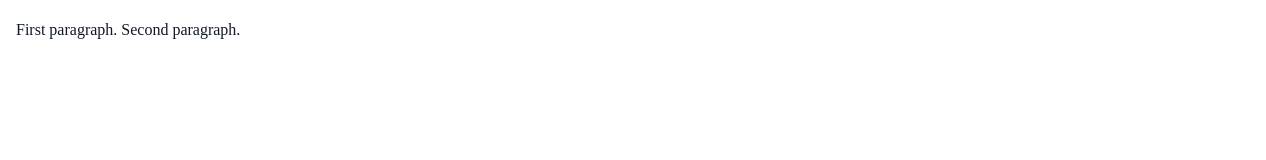
Test: MdKitEditor › opens optional document search from the find shortcut
Check: the field labelled "First paragraph. Second paragraph." is shown, box [16,21,240,38]
Step 1. Press f
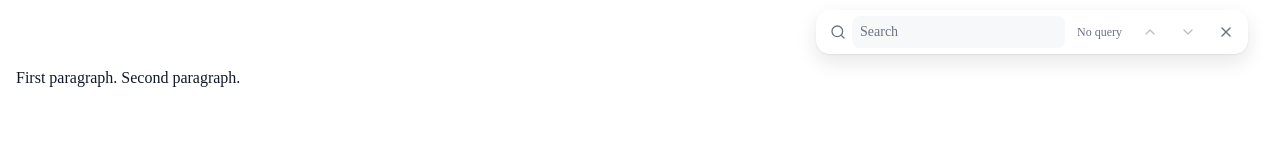
Step 2. Type "paragraph" into the search field named "Search document" → [958, 32], box [852,16,1065,48]
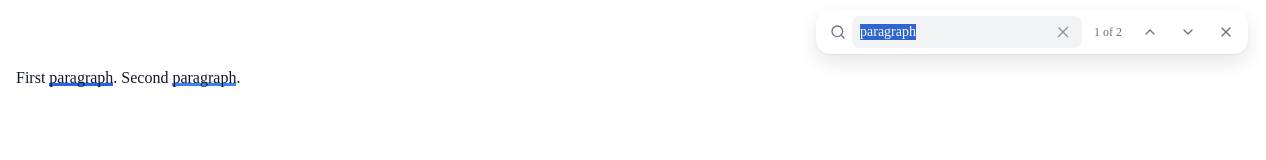
Check: the text box with class "mp-lb-mdkit-search-match-active" reads "paragraph", box [49,68,113,86]
Check: the text "1 of 2" is shown, box [1094,25,1122,39]
Step 3. Click the button named "Next match" → [1188, 32], box [1172,16,1204,48]
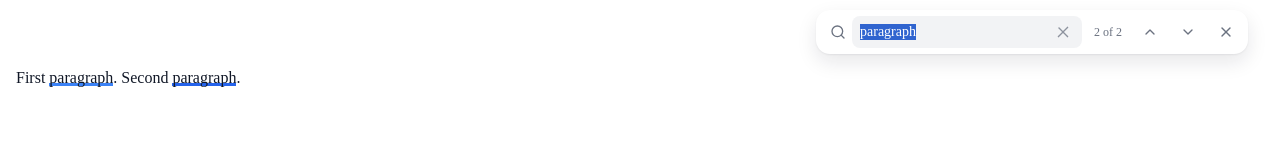
Check: the text "2 of 2" is shown, box [1094,25,1122,39]
